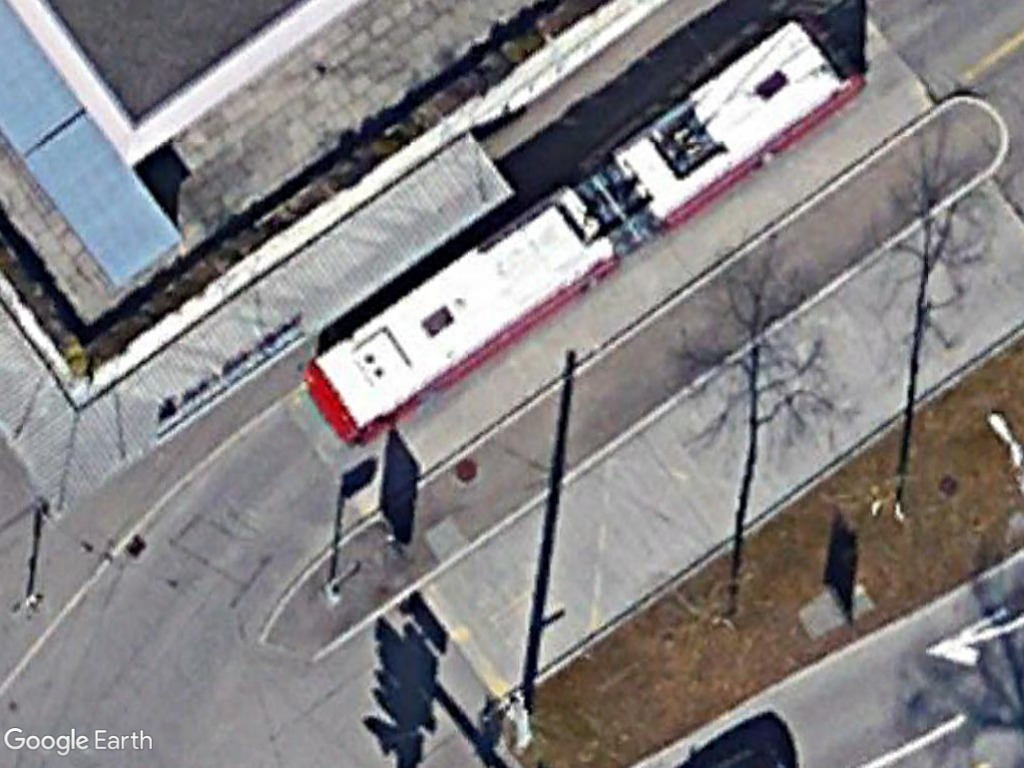bus: (299, 182, 616, 445), (611, 18, 863, 229)
